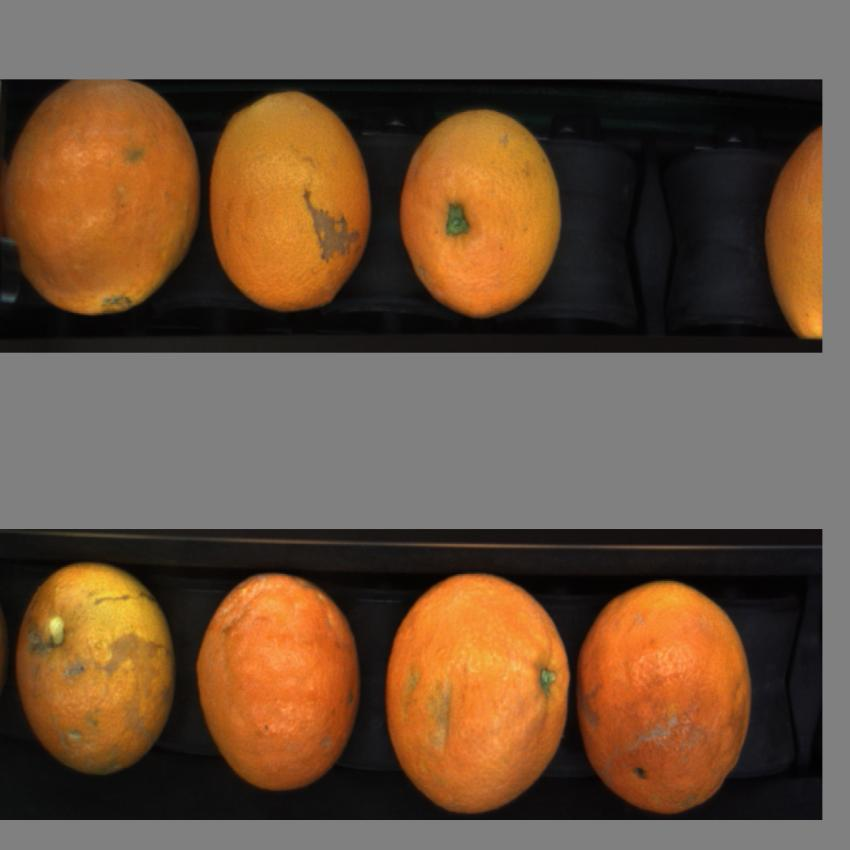Buen estado: (384, 564, 572, 812), (389, 97, 577, 331), (208, 88, 376, 318), (760, 114, 826, 342)
Mal estado: (4, 82, 202, 322), (577, 580, 757, 808), (191, 564, 366, 795), (14, 567, 180, 783)
